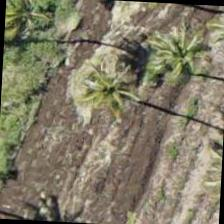Kelapa_Sawit: (62, 40, 157, 136), (134, 8, 223, 104), (3, 0, 71, 62)
